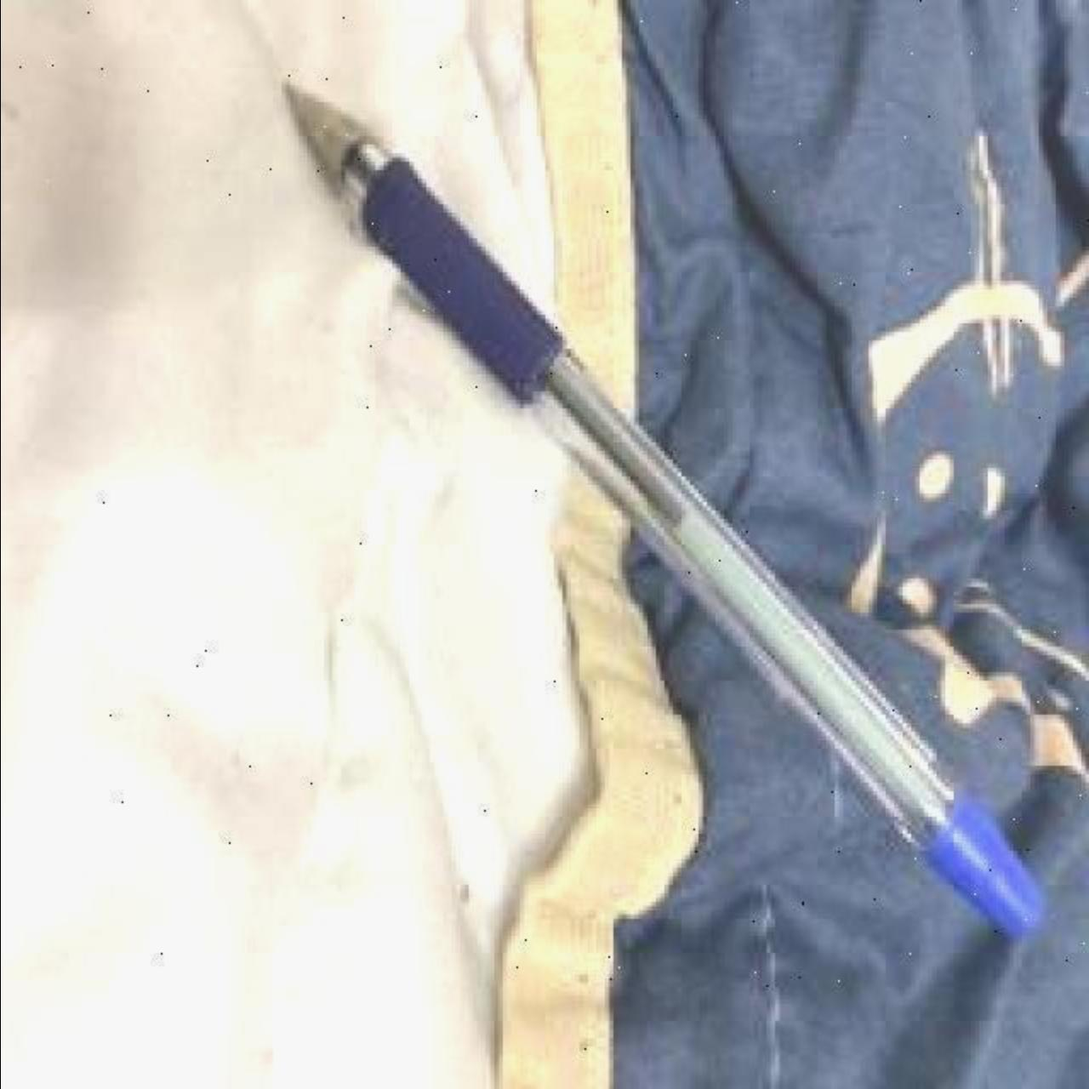pen: (281, 80, 1046, 944)
